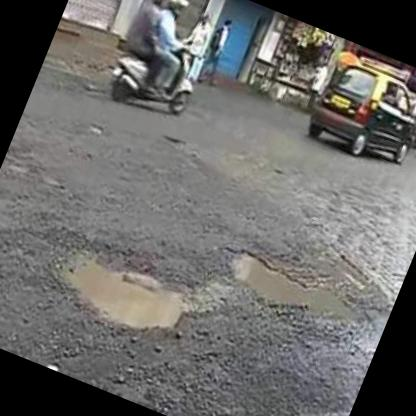pothole: (47, 229, 202, 344), (214, 238, 380, 336)
